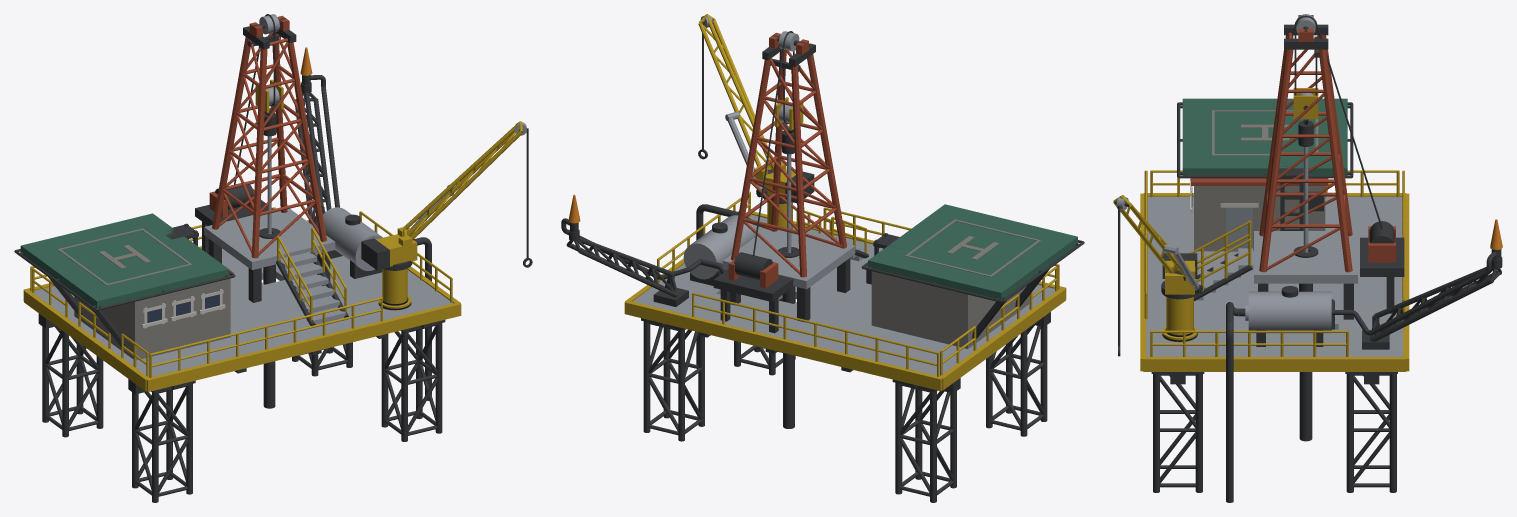
File: offshore_oil_platform_lvl1.glb
The picture shows the model from 3 angles, left to right: view 1: azimuth 30°, elevation 25°; view 2: azimuth 150°, elevation 25°; view 3: azimuth 270°, elevation 25°; orthographic projection. The views are drawn at different scales.
Visible parts, largest first — view 1: offshore_oil_platform; view 2: offshore_oil_platform; view 3: offshore_oil_platform.
Boxes of the visible parts, x1,y1,x2,y2 form: offshore_oil_platform: (14, 14, 532, 502); offshore_oil_platform: (561, 14, 1084, 502); offshore_oil_platform: (1113, 14, 1502, 502).
Size of the model in its own units: 0.95 by 0.8664 by 0.7235.
